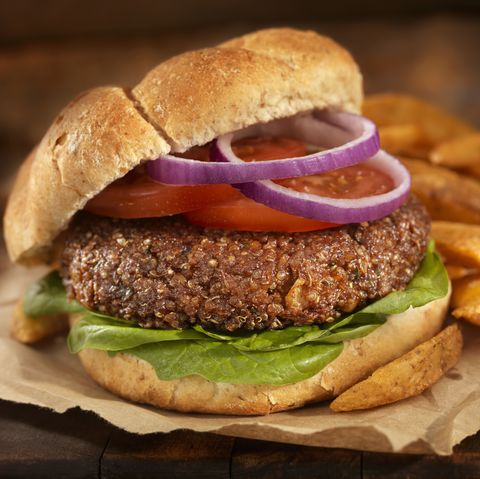hamburger_buns: (1, 14, 386, 268)
